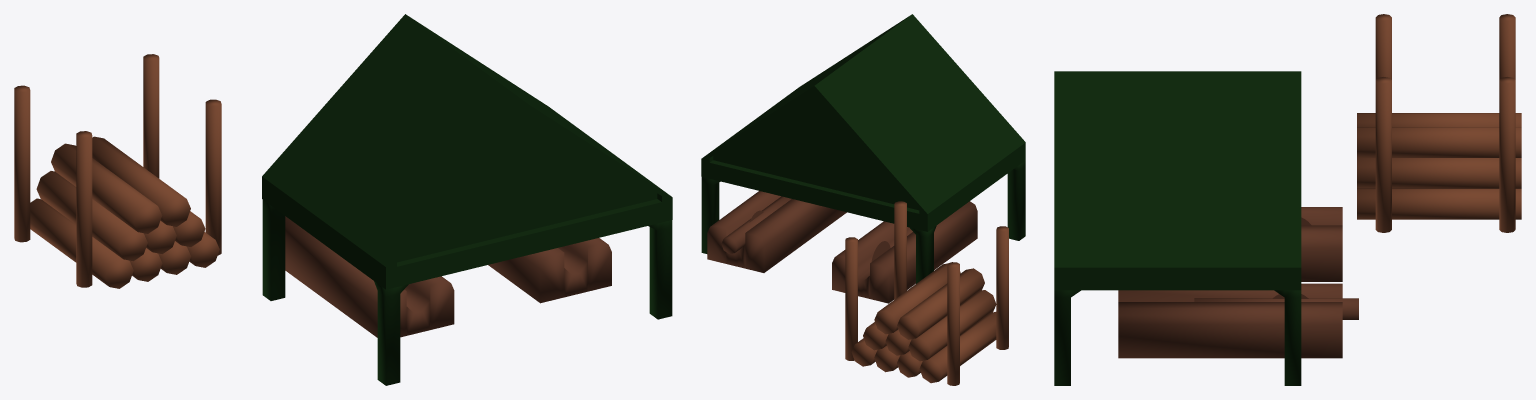
Rendered from Woodworks.fbx.
The picture shows the model from 3 angles, left to right: view 1: azimuth 30°, elevation 25°; view 2: azimuth 150°, elevation 25°; view 3: azimuth 270°, elevation 25°; orthographic projection. The views are drawn at different scales.
Visible parts, largest first — view 1: Pillars.001; view 2: Pillars.001; view 3: Pillars.001.
Boxes of the visible parts, x1,y1,x2,y2 form: Pillars.001: [14, 14, 672, 385]; Pillars.001: [701, 14, 1025, 385]; Pillars.001: [1054, 14, 1521, 385].
Bounding box in the file's own units: 600 × 328 × 567.
